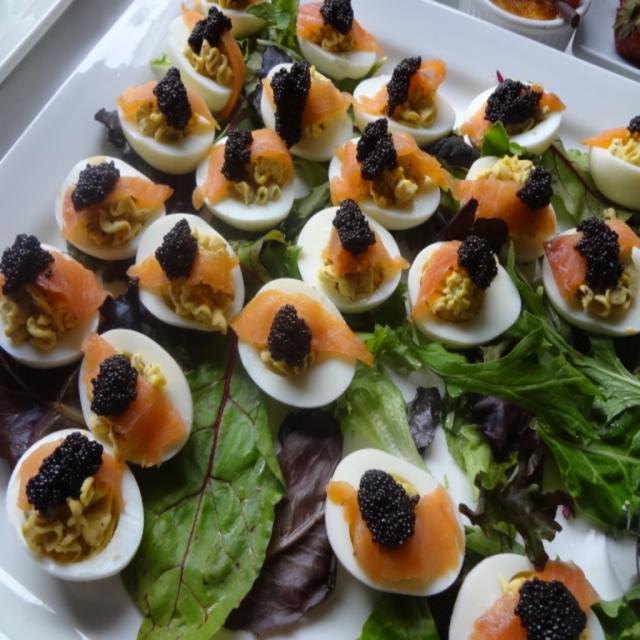Egg: (4, 426, 145, 578), (323, 445, 465, 595), (76, 323, 195, 469), (236, 274, 358, 409), (132, 214, 248, 334), (448, 553, 608, 639), (405, 241, 524, 347), (52, 155, 167, 261), (325, 132, 444, 233), (295, 204, 403, 315), (0, 252, 100, 365), (541, 226, 639, 338), (469, 148, 559, 264), (195, 133, 293, 236), (258, 60, 354, 163), (115, 85, 217, 176), (166, 5, 246, 112), (351, 74, 456, 146), (465, 83, 563, 157), (295, 0, 376, 79), (585, 135, 639, 213), (201, 0, 275, 37)
